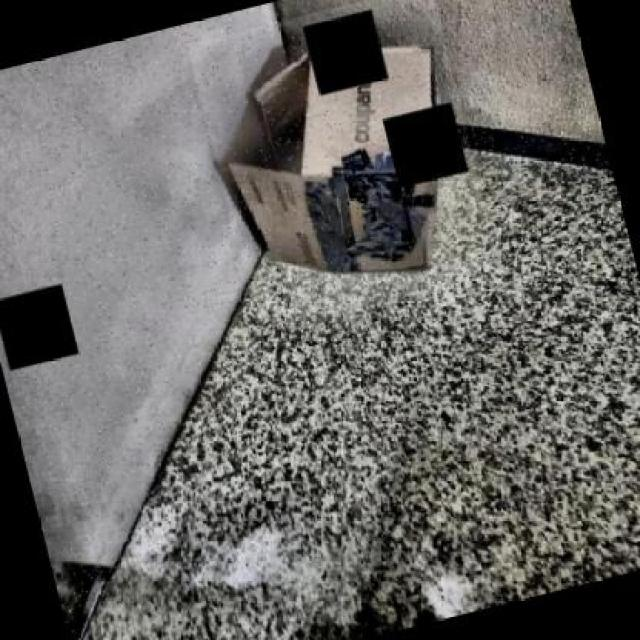box: (186, 0, 502, 334)
